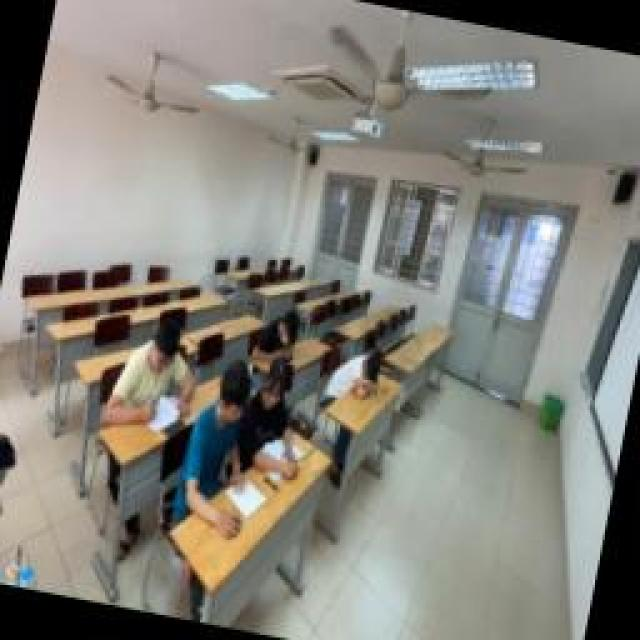sleep: (322, 348, 388, 412)
study: (172, 355, 272, 540), (103, 315, 205, 440), (232, 352, 320, 480), (250, 308, 305, 368)
